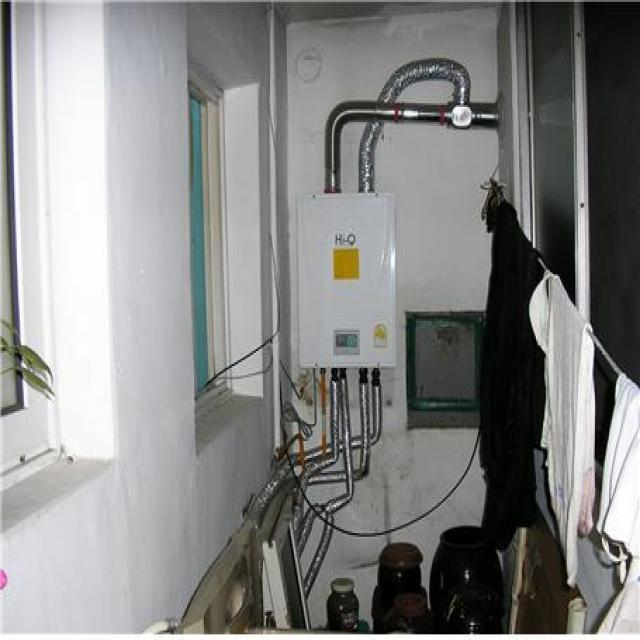Boiler: (266, 144, 434, 400)
